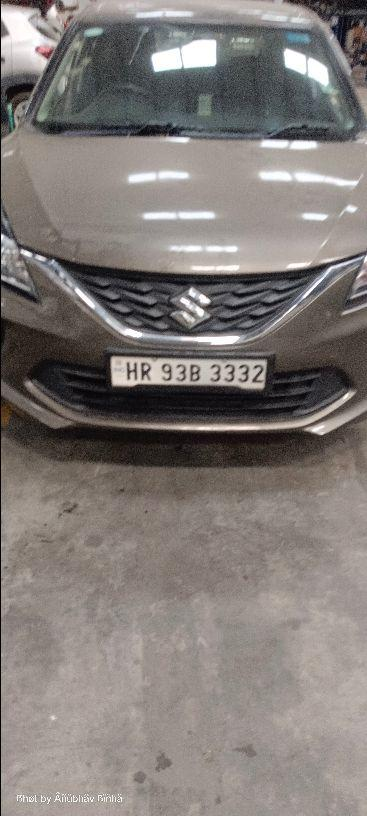license_plate: (107, 352, 271, 393)
